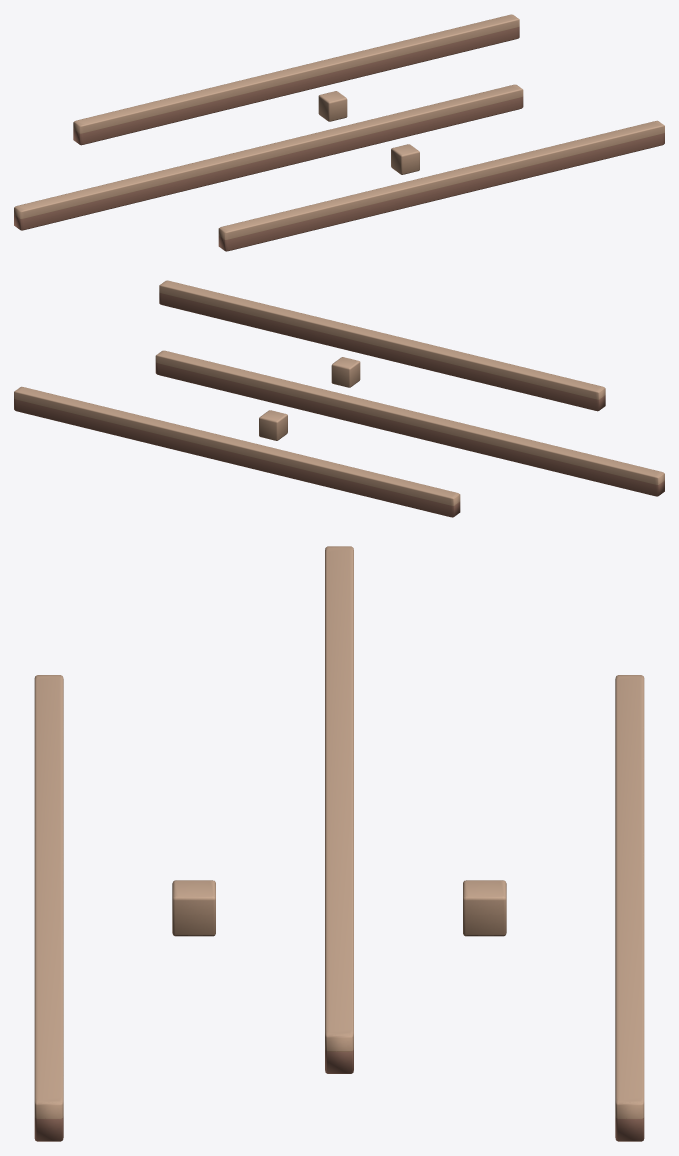
Rendered from Props.fbx.
3 renders of one model, top to bottom at view 1: azimuth 30°, elevation 25°; view 2: azimuth 150°, elevation 25°; view 3: azimuth 270°, elevation 25°, orthographic. The views are drawn at different scales.
Visible parts, largest first — view 1: Box20-3_1 (2), Box20-3_1 (4), Box20-3_1 (3), Box1-5 (8), Box1-5 (7); view 2: Box20-3_1 (2), Box20-3_1 (3), Box20-3_1 (4), Box1-5 (7), Box1-5 (8); view 3: Box20-3_1 (2), Box20-3_1 (3), Box20-3_1 (4), Box1-5 (7), Box1-5 (8).
Boxes of the visible parts, x1,y1,x2,y2 form: Box20-3_1 (2): (14, 84, 523, 230); Box20-3_1 (4): (73, 14, 519, 145); Box20-3_1 (3): (218, 120, 664, 251); Box1-5 (8): (318, 91, 347, 121); Box1-5 (7): (391, 144, 419, 174); Box20-3_1 (2): (155, 350, 664, 496); Box20-3_1 (3): (159, 280, 605, 411); Box20-3_1 (4): (14, 386, 460, 517); Box1-5 (7): (331, 357, 360, 387); Box1-5 (8): (259, 410, 287, 440); Box20-3_1 (2): (325, 546, 353, 1073); Box20-3_1 (3): (34, 675, 63, 1141); Box20-3_1 (4): (615, 675, 644, 1141); Box1-5 (7): (172, 880, 215, 936); Box1-5 (8): (463, 880, 506, 936).
Size of the model in its own units: 45.5 by 1.5 by 21.
Materials: 1 (1 with a texture image).
